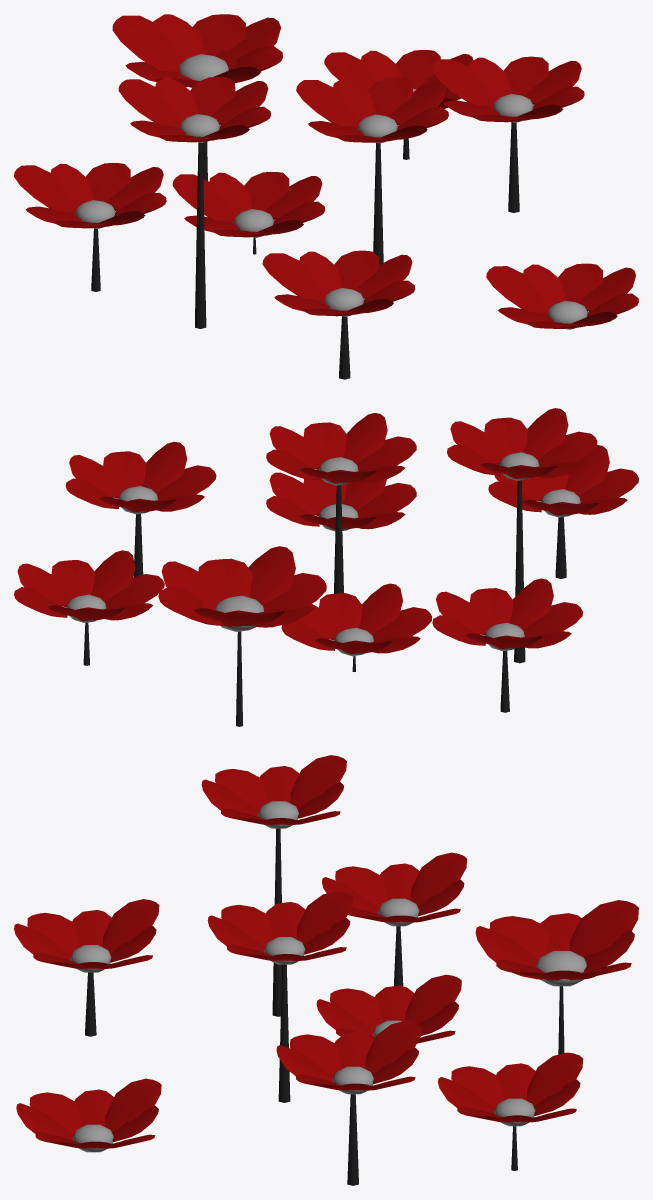
Rendered from Flowers.FBX.
The picture shows the model from 3 angles, top to bottom: view 1: azimuth 30°, elevation 25°; view 2: azimuth 150°, elevation 25°; view 3: azimuth 270°, elevation 25°; orthographic projection. The views are drawn at different scales.
Parts seen in each view (by area): view 1: Box009; view 2: Box009; view 3: Box009.
Part boxes in pixels (x1=…): Box009: x1=14, y1=14, x2=638, y2=379; Box009: x1=14, y1=408, x2=638, y2=726; Box009: x1=14, y1=755, x2=638, y2=1185.
Bounding box in the file's own units: 1240 × 523 × 1265.
